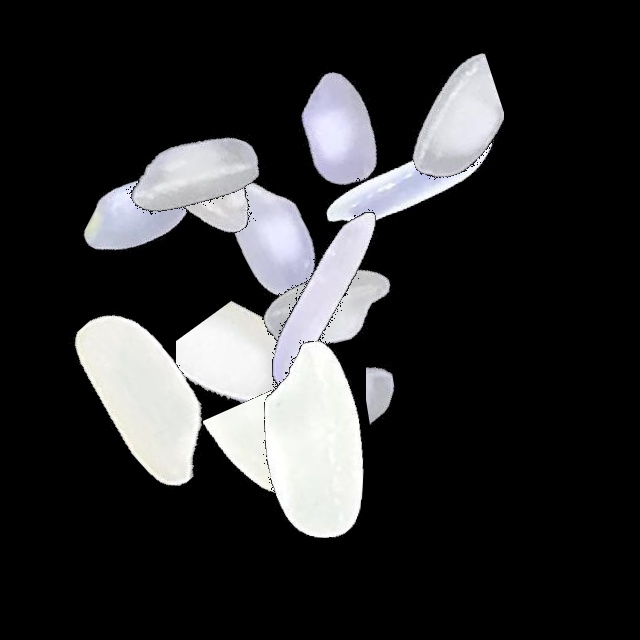Broken: (330, 4, 504, 254), (155, 89, 300, 339), (176, 250, 311, 500), (203, 338, 333, 588), (401, 80, 494, 330), (366, 271, 454, 521)
Full: (20, 271, 270, 521), (217, 6, 467, 256), (284, 54, 534, 304), (11, 90, 261, 340), (147, 113, 397, 363), (202, 183, 452, 433), (197, 173, 447, 423), (187, 315, 437, 565), (68, 48, 318, 298)
